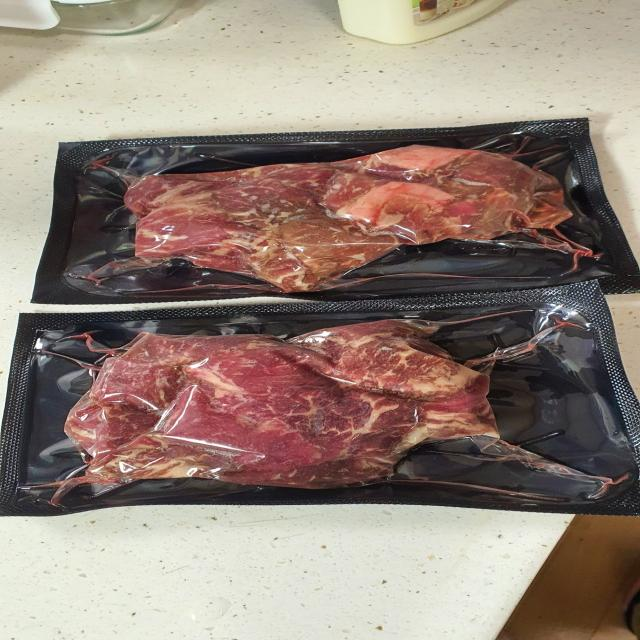pork: (5, 104, 640, 506)
